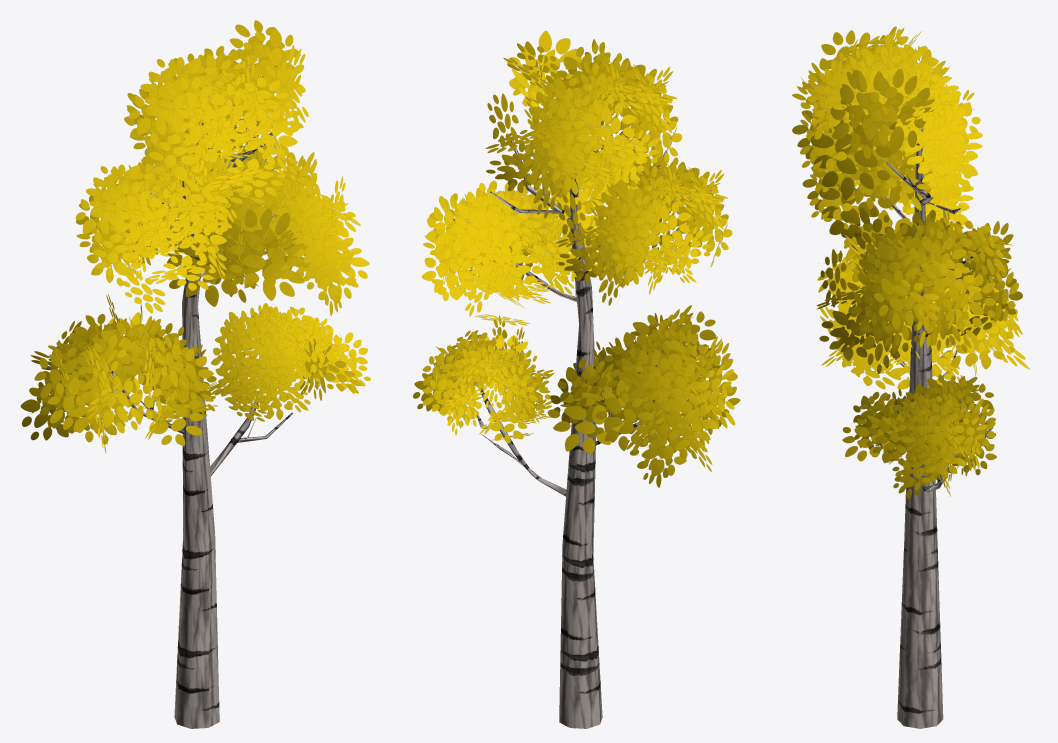
Rendered from BirchTree_1_LOD.glb.
The picture shows the model from 3 angles, left to right: view 1: azimuth 30°, elevation 25°; view 2: azimuth 150°, elevation 25°; view 3: azimuth 270°, elevation 25°; orthographic projection. The views are drawn at different scales.
Parts seen in each view (by area): view 1: BirchTree_1; view 2: BirchTree_1; view 3: BirchTree_1.
Boxes of the visible parts, <box> form: BirchTree_1: <box>20,20,370,728</box>; BirchTree_1: <box>413,31,740,728</box>; BirchTree_1: <box>792,26,1029,728</box>.
Size of the model in its own units: 2.71 by 5.44 by 1.86.
Materials: 2 (2 with a texture image).
